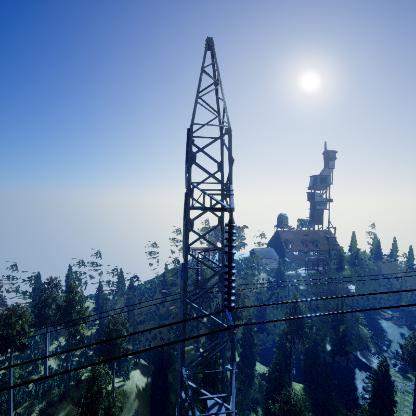insulator: (220, 220, 239, 313)
